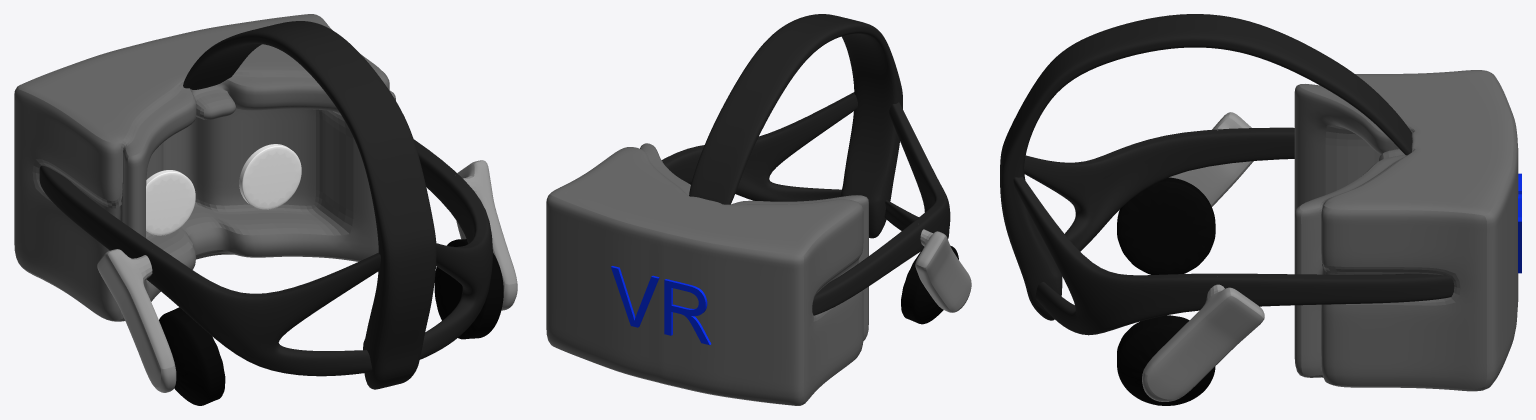
The model's file is vr headset 2.fbx.
The picture shows the model from 3 angles, left to right: view 1: azimuth 30°, elevation 25°; view 2: azimuth 150°, elevation 25°; view 3: azimuth 270°, elevation 25°; orthographic projection. The views are drawn at different scales.
Parts seen in each view (by area): view 1: strap; view 2: strap, Text001; view 3: strap.
Boxes of the visible parts, <box> form: strap: <box>14,14,517,405</box>; strap: <box>546,14,971,405</box>; Text001: <box>611,266,711,345</box>; strap: <box>1000,14,1518,405</box>.
Size of the model in its own units: 67.75 by 54.39 by 81.67.
